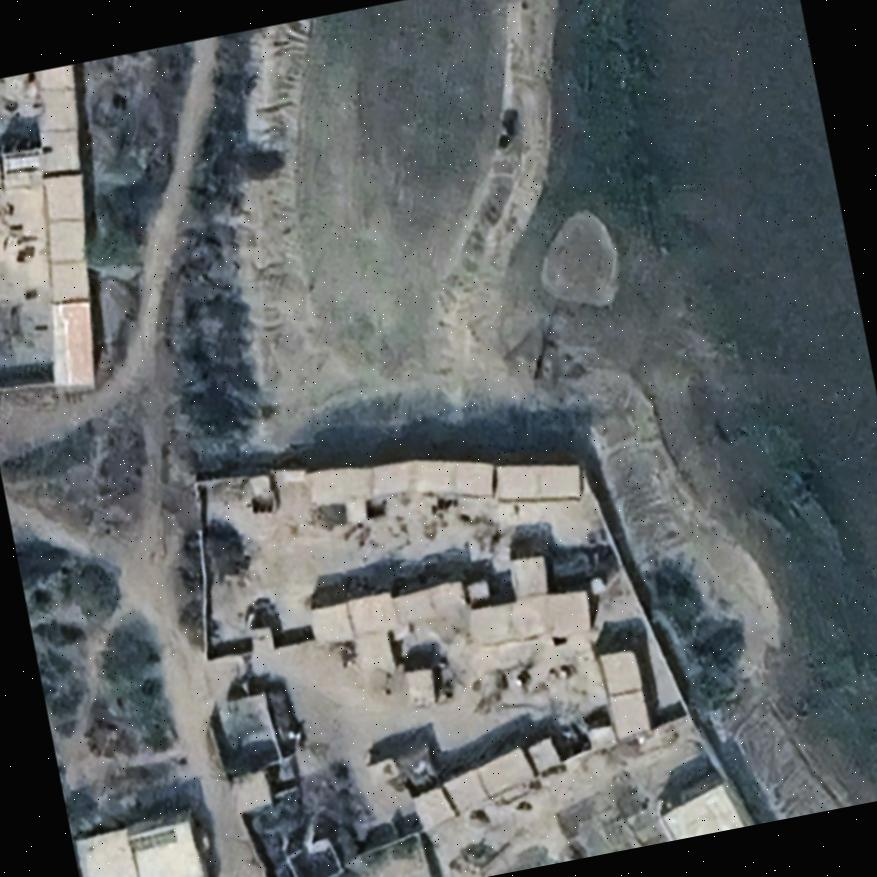Solarpanel: (124, 822, 181, 856)
